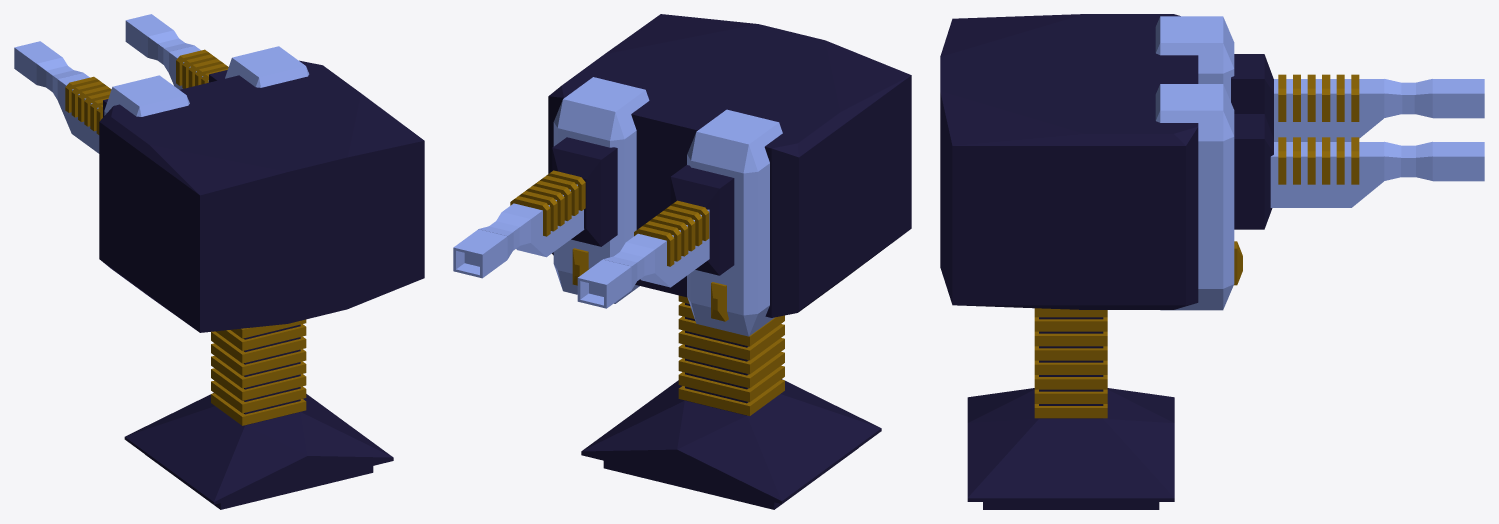
The model's file is turret.fbx.
3 renders of one model, left to right at view 1: azimuth 30°, elevation 25°; view 2: azimuth 150°, elevation 25°; view 3: azimuth 270°, elevation 25°, orthographic. The views are drawn at different scales.
Visible parts, largest first — view 1: TurretHead, Base, BaseRings, GunMuzzle, BaseGunConnector, GunRIngs; view 2: TurretHead, Base, BaseGunConnector, GunMuzzle, GunBase, BaseRings, GunRIngs, LightDetail; view 3: TurretHead, Base, GunMuzzle, BaseGunConnector, BaseRings, GunBase, GunRIngs.
Part boxes in pixels (<box>): TurretHead: <box>99,60,424,332</box>; Base: <box>124,324,393,509</box>; BaseRings: <box>211,319,306,425</box>; GunMuzzle: <box>14,14,208,153</box>; BaseGunConnector: <box>104,46,309,116</box>; GunRIngs: <box>65,49,228,134</box>; TurretHead: <box>548,14,911,317</box>; Base: <box>581,303,881,509</box>; BaseGunConnector: <box>553,77,782,336</box>; GunMuzzle: <box>453,184,709,308</box>; GunBase: <box>552,137,734,275</box>; BaseRings: <box>678,295,784,415</box>; GunRIngs: <box>510,170,709,266</box>; LightDetail: <box>572,248,728,321</box>; TurretHead: <box>940,14,1198,309</box>; Base: <box>967,317,1174,509</box>; GunMuzzle: <box>1270,79,1484,207</box>; BaseGunConnector: <box>1155,16,1234,310</box>; BaseRings: <box>1034,308,1107,418</box>; GunBase: <box>1231,54,1273,229</box>; GunRIngs: <box>1278,74,1359,184</box>.
Size of the model in its own units: 249 by 378 by 451.
